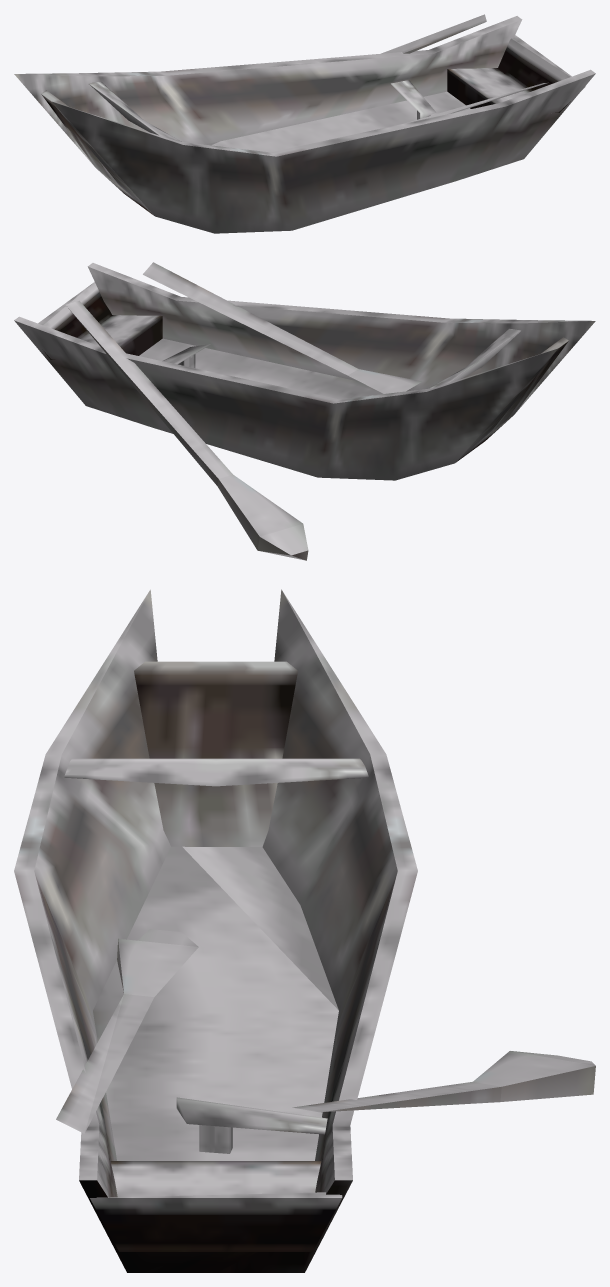
The model's file is general_obj_ferryboat02_lod_01.glb.
3 views of the same model, one above another, from view 1: azimuth 30°, elevation 25°; view 2: azimuth 150°, elevation 25°; view 3: azimuth 270°, elevation 25° (orthographic). The views are drawn at different scales.
Parts seen in each view (by area): view 1: Object10; view 2: Object10; view 3: Object10.
Part boxes in pixels (<box>): Object10: <box>14,14,595,233</box>; Object10: <box>14,262,595,560</box>; Object10: <box>14,589,595,1272</box>.
Size of the model in its own units: 4.77 by 1.71 by 2.64.
Materials: 1 (1 with a texture image).
